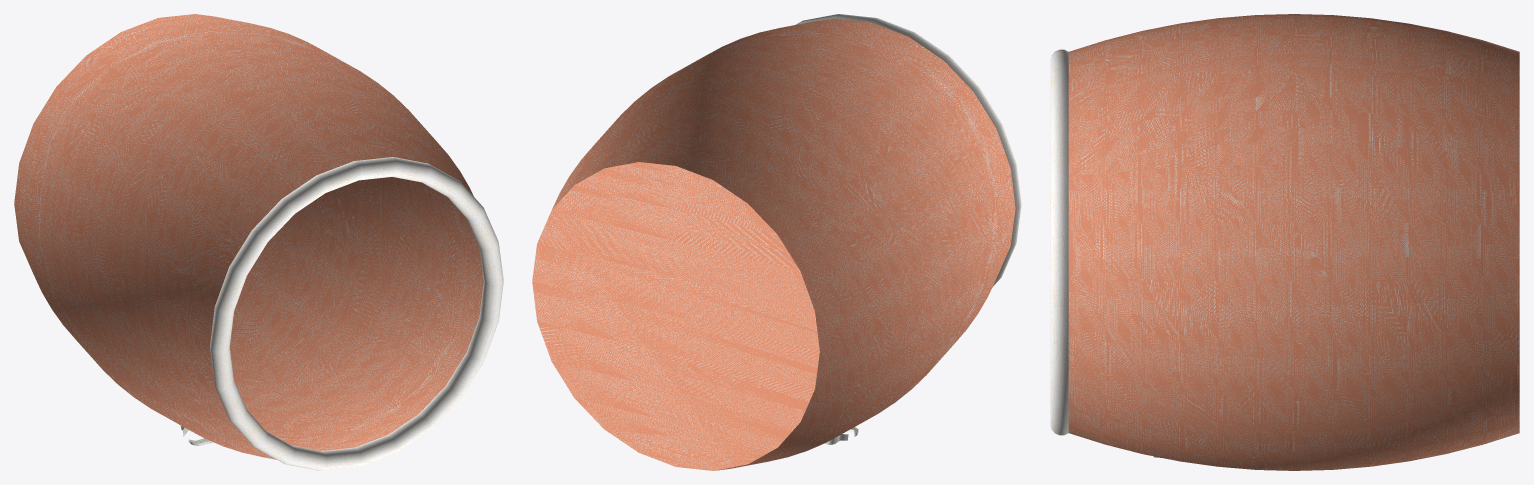
Rendered from model_align.obj.
3 renders of one model, left to right at view 1: azimuth 30°, elevation 25°; view 2: azimuth 150°, elevation 25°; view 3: azimuth 270°, elevation 25°, orthographic. The views are drawn at different scales.
Visible parts, largest first — view 1: mesh1_mesh1-geometry; view 2: mesh1_mesh1-geometry; view 3: mesh1_mesh1-geometry.
Boxes of the visible parts, x1,y1,x2,y2 form: mesh1_mesh1-geometry: [14, 14, 503, 470]; mesh1_mesh1-geometry: [532, 14, 1021, 470]; mesh1_mesh1-geometry: [1050, 14, 1519, 470].
Size of the model in its own units: 0.1625 by 0.164 by 0.1663.
